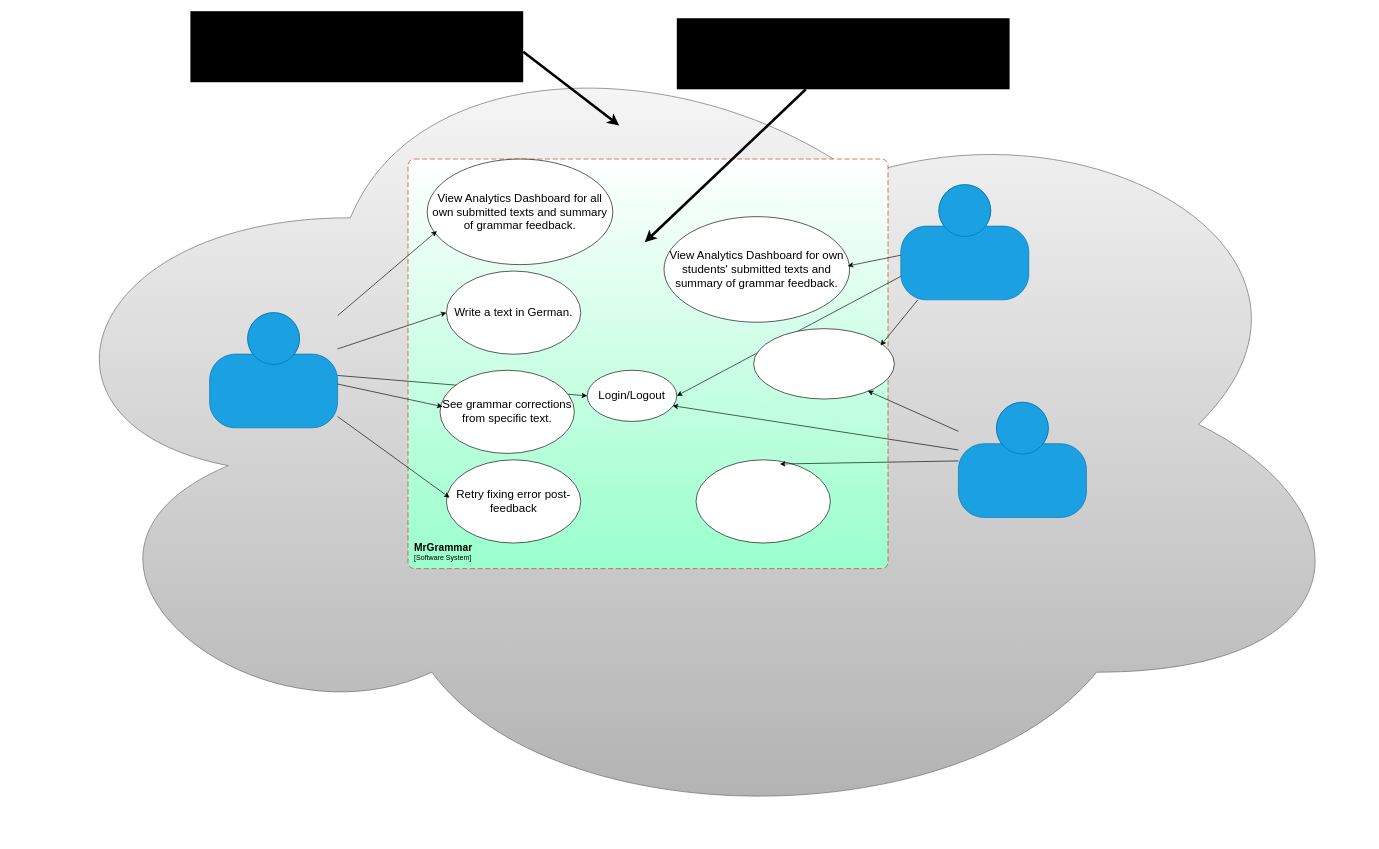
The diagram is 1379 pixels wide and 849 high, and some of its shapes have lost their labels. The centre of each missing label's shape, as x and y in pixels:
"Admin [Person] Administrates" goes at point 1022,459.
"Create/Delete user/classroom/group" goes at point 823,363.
"Manage classroms and users" goes at point 762,501.
"Student [Person] Studies German" goes at point 273,370.
"Teacher [Person] Teaches German, Reviews Texts" goes at point 964,242.
